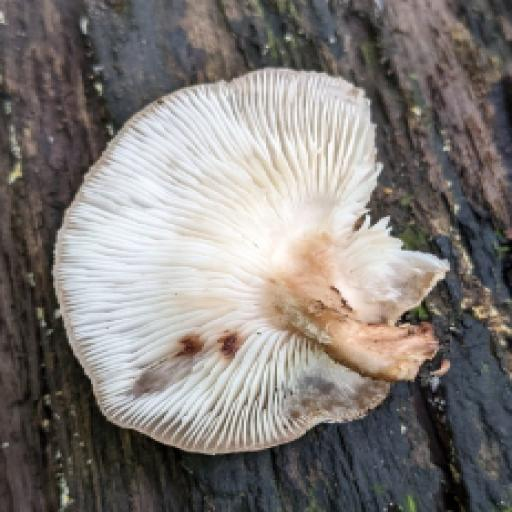Shiitake Mushroom: (27, 49, 459, 479)
